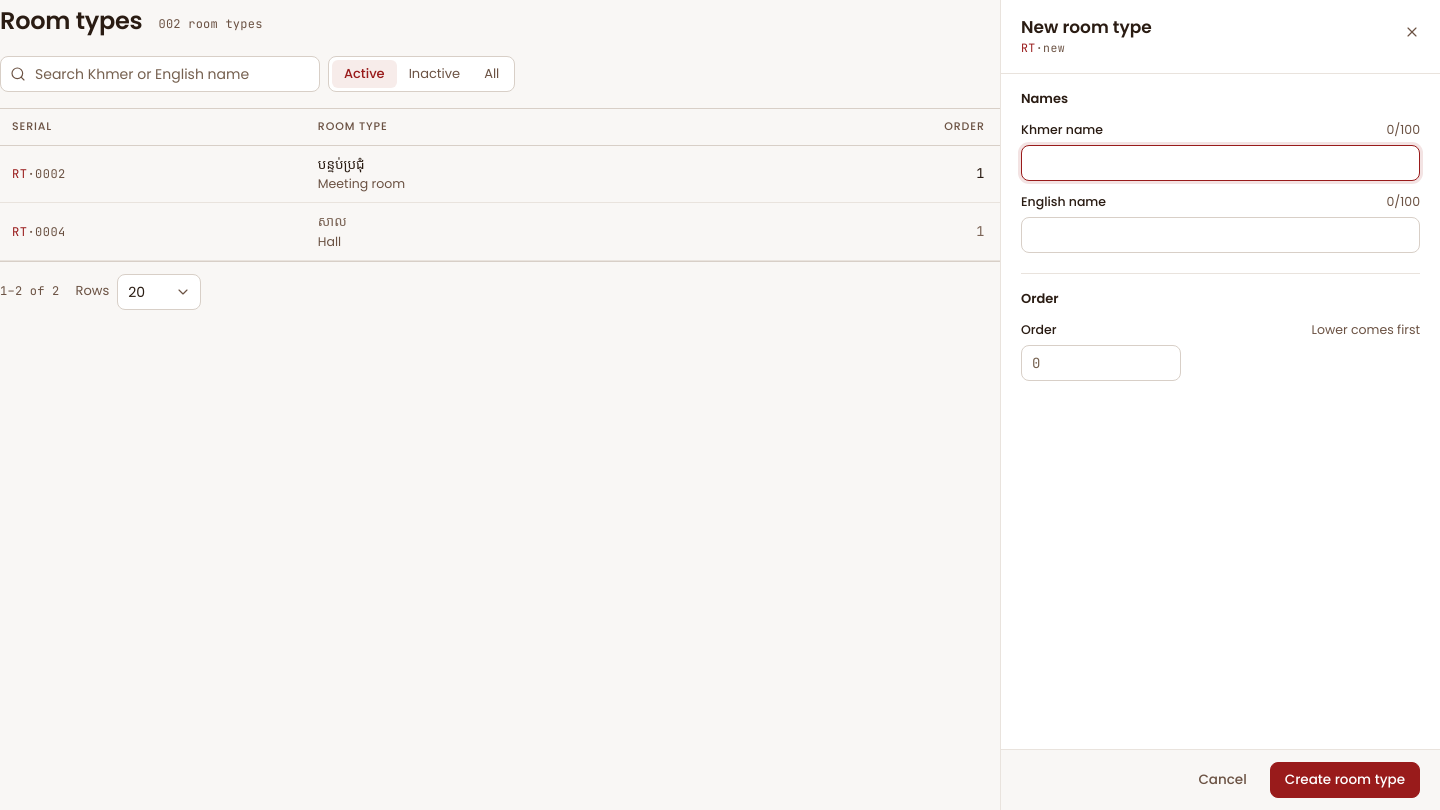
Test: RoomTypesView › shows a duplicate name under the English name
Step 1. Type "បន្ទប់ប្រជុំ" into the field with id "name_kh" → {"x": 1220, "y": 163}, box [1021,145,1420,181]
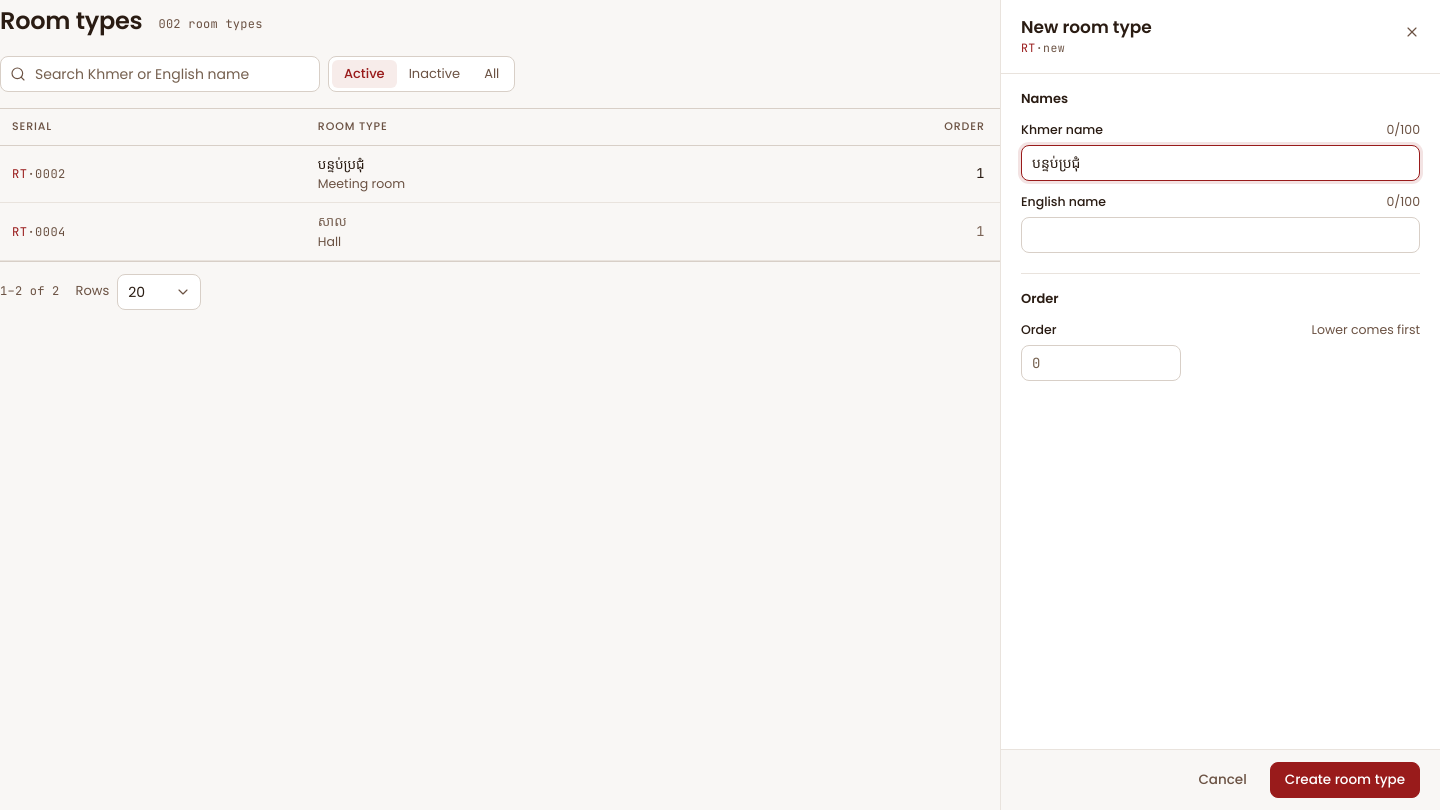
Step 2. Type "Meeting room" into the field with id "name_en" → {"x": 1220, "y": 235}, box [1021,217,1420,253]
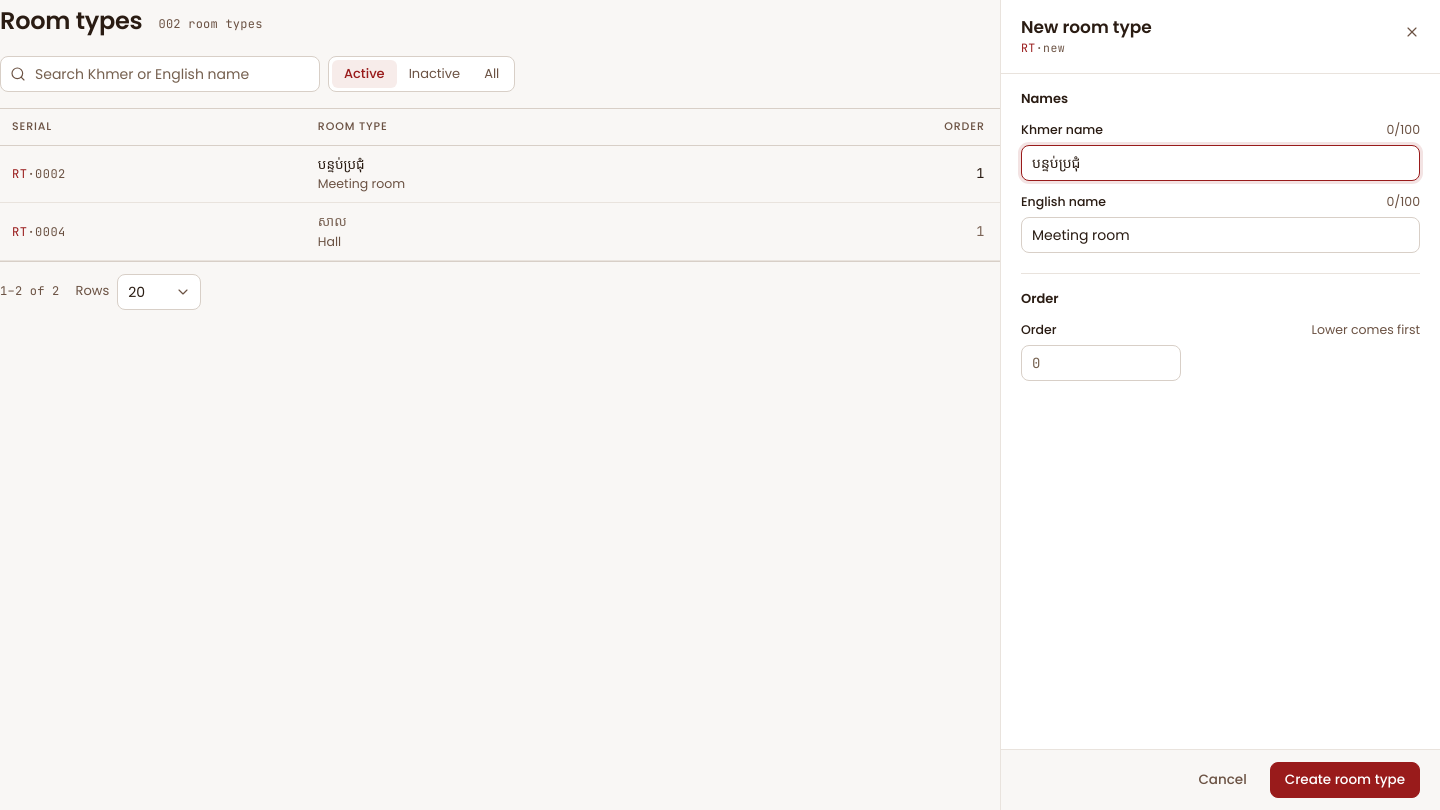
Step 3. Submit the form, box [1021,90,1420,381]
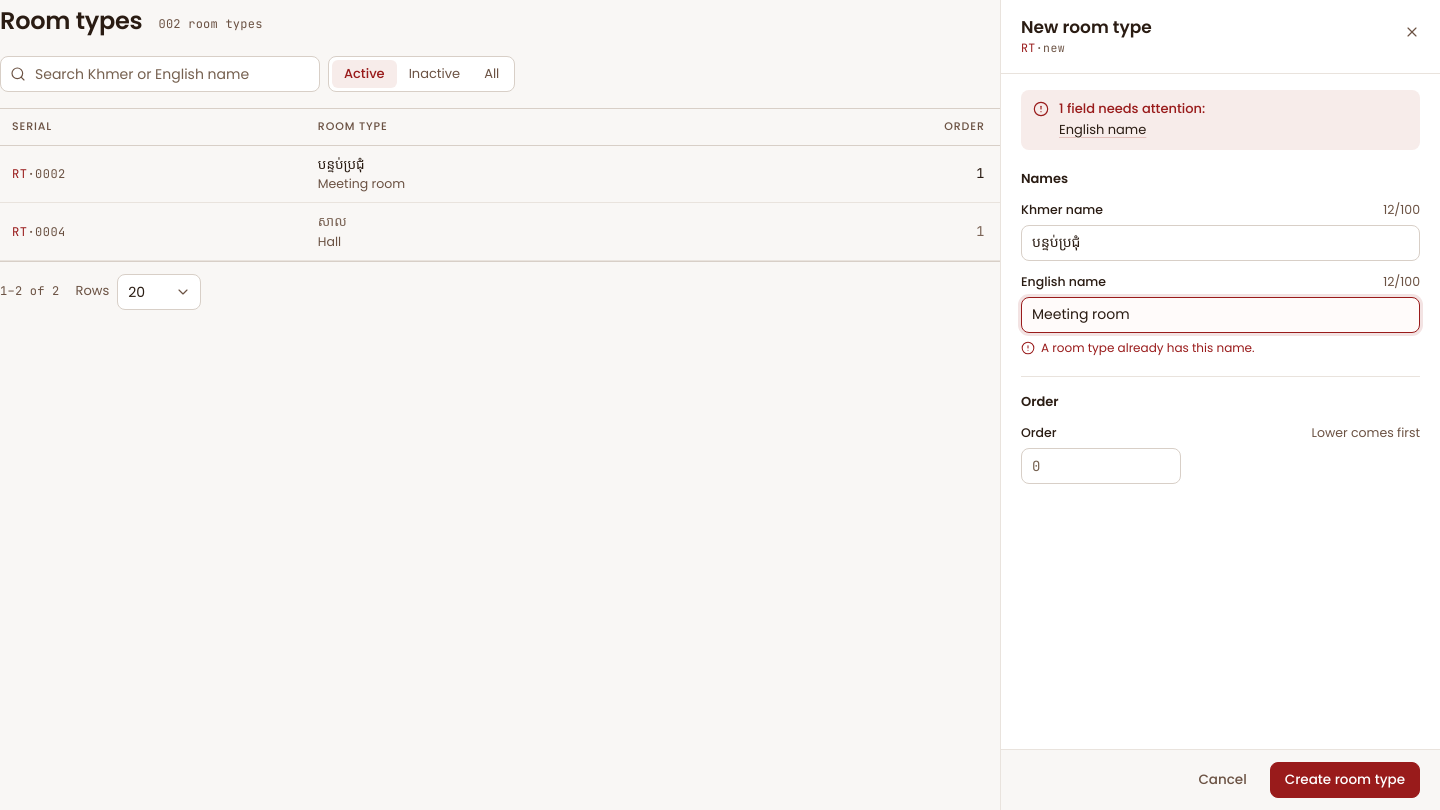
Check: the element with id "name_en-error" reads "A room type already has this name.", box [1041,339,1255,356]
